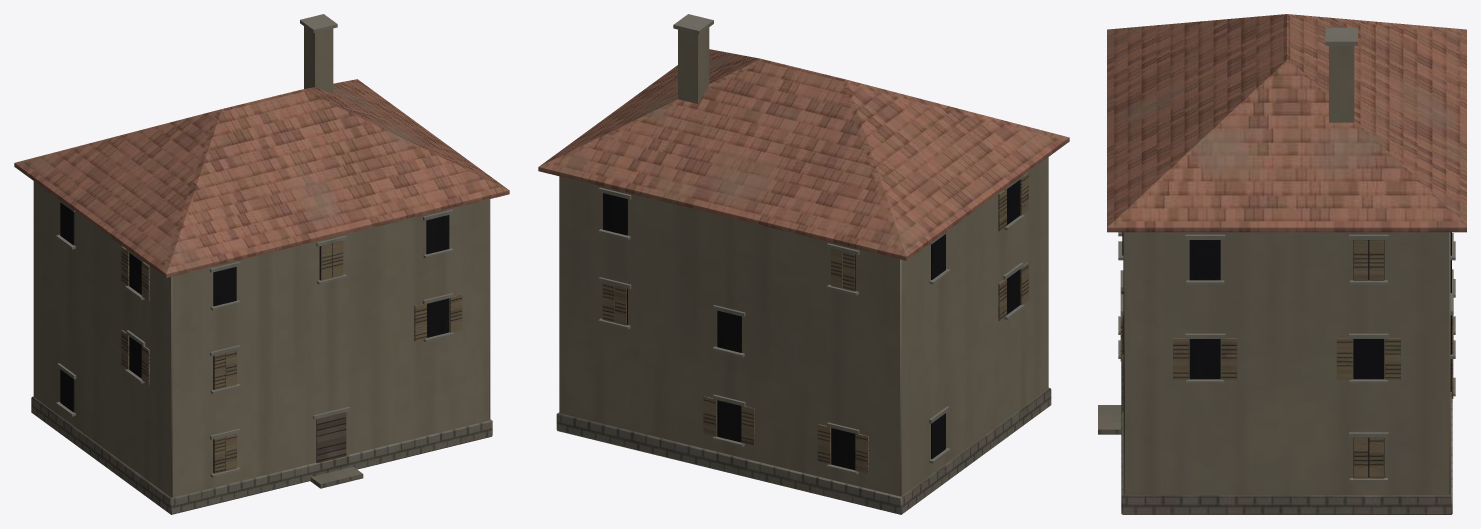
File: a18_house_7.glb
3 views of the same model, side by side, from view 1: azimuth 30°, elevation 25°; view 2: azimuth 150°, elevation 25°; view 3: azimuth 270°, elevation 25° (orthographic). The views are drawn at different scales.
Visible parts, largest first — view 1: body; view 2: body; view 3: body.
Part boxes in pixels (x1,y1,x2,y2): body: (14,14,509,514); body: (538,14,1069,514); body: (1098,14,1466,514).
Size of the model in its own units: 1 by 1.02 by 0.7868.
1 material, 1 textured.
